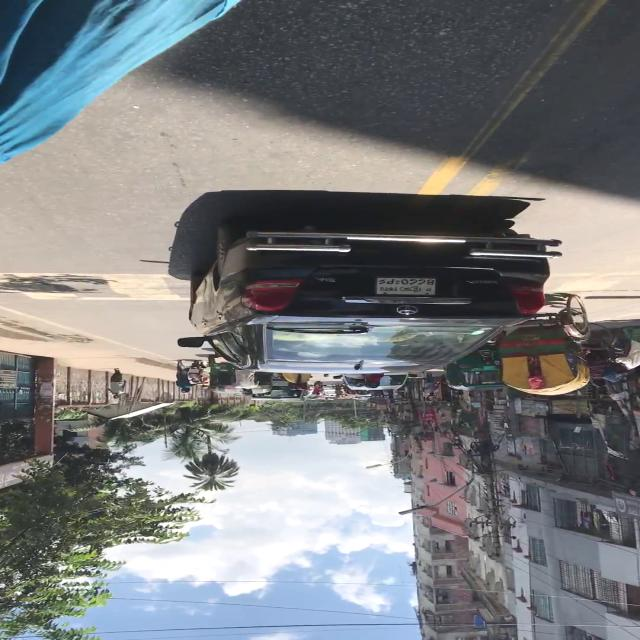black: (188, 219, 572, 371)
